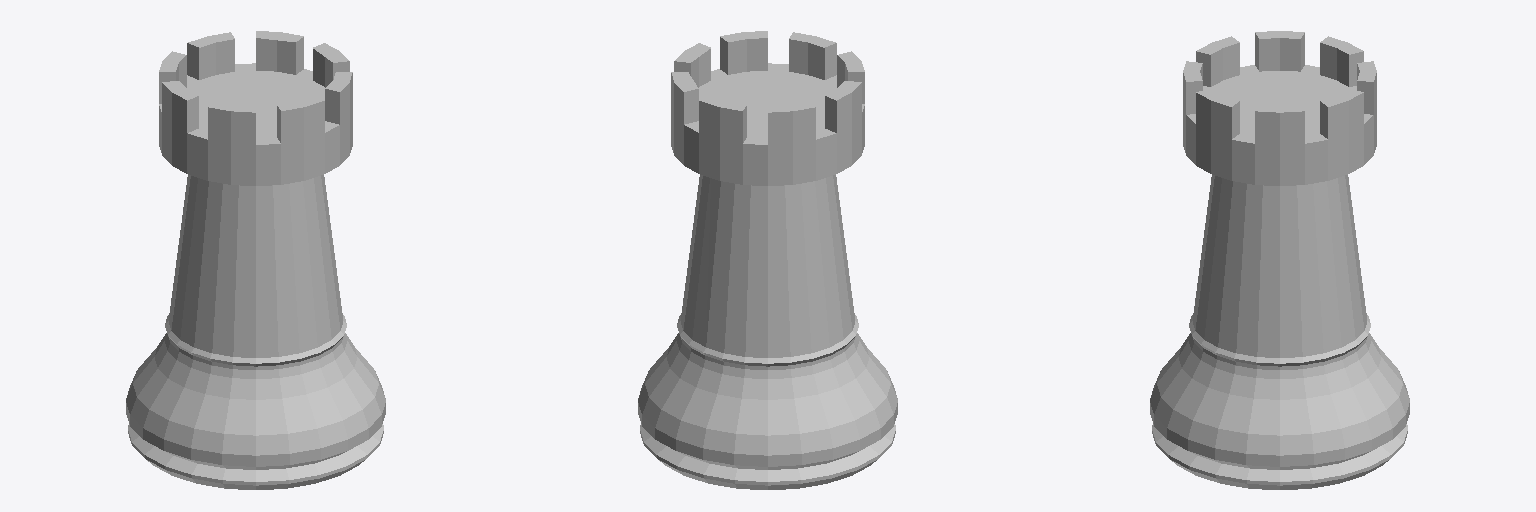
The model's file is rook.obj.
3 views of the same model, side by side, from view 1: azimuth 30°, elevation 25°; view 2: azimuth 150°, elevation 25°; view 3: azimuth 270°, elevation 25° (orthographic).
Parts seen in each view (by area): view 1: Mesh1 Model; view 2: Mesh1 Model; view 3: Mesh1 Model.
Boxes of the visible parts, <box> form: Mesh1 Model: <box>126,31,385,489</box>; Mesh1 Model: <box>638,31,897,489</box>; Mesh1 Model: <box>1150,31,1409,489</box>.
Size of the model in its own units: 0.7815 by 1.22 by 0.7815.